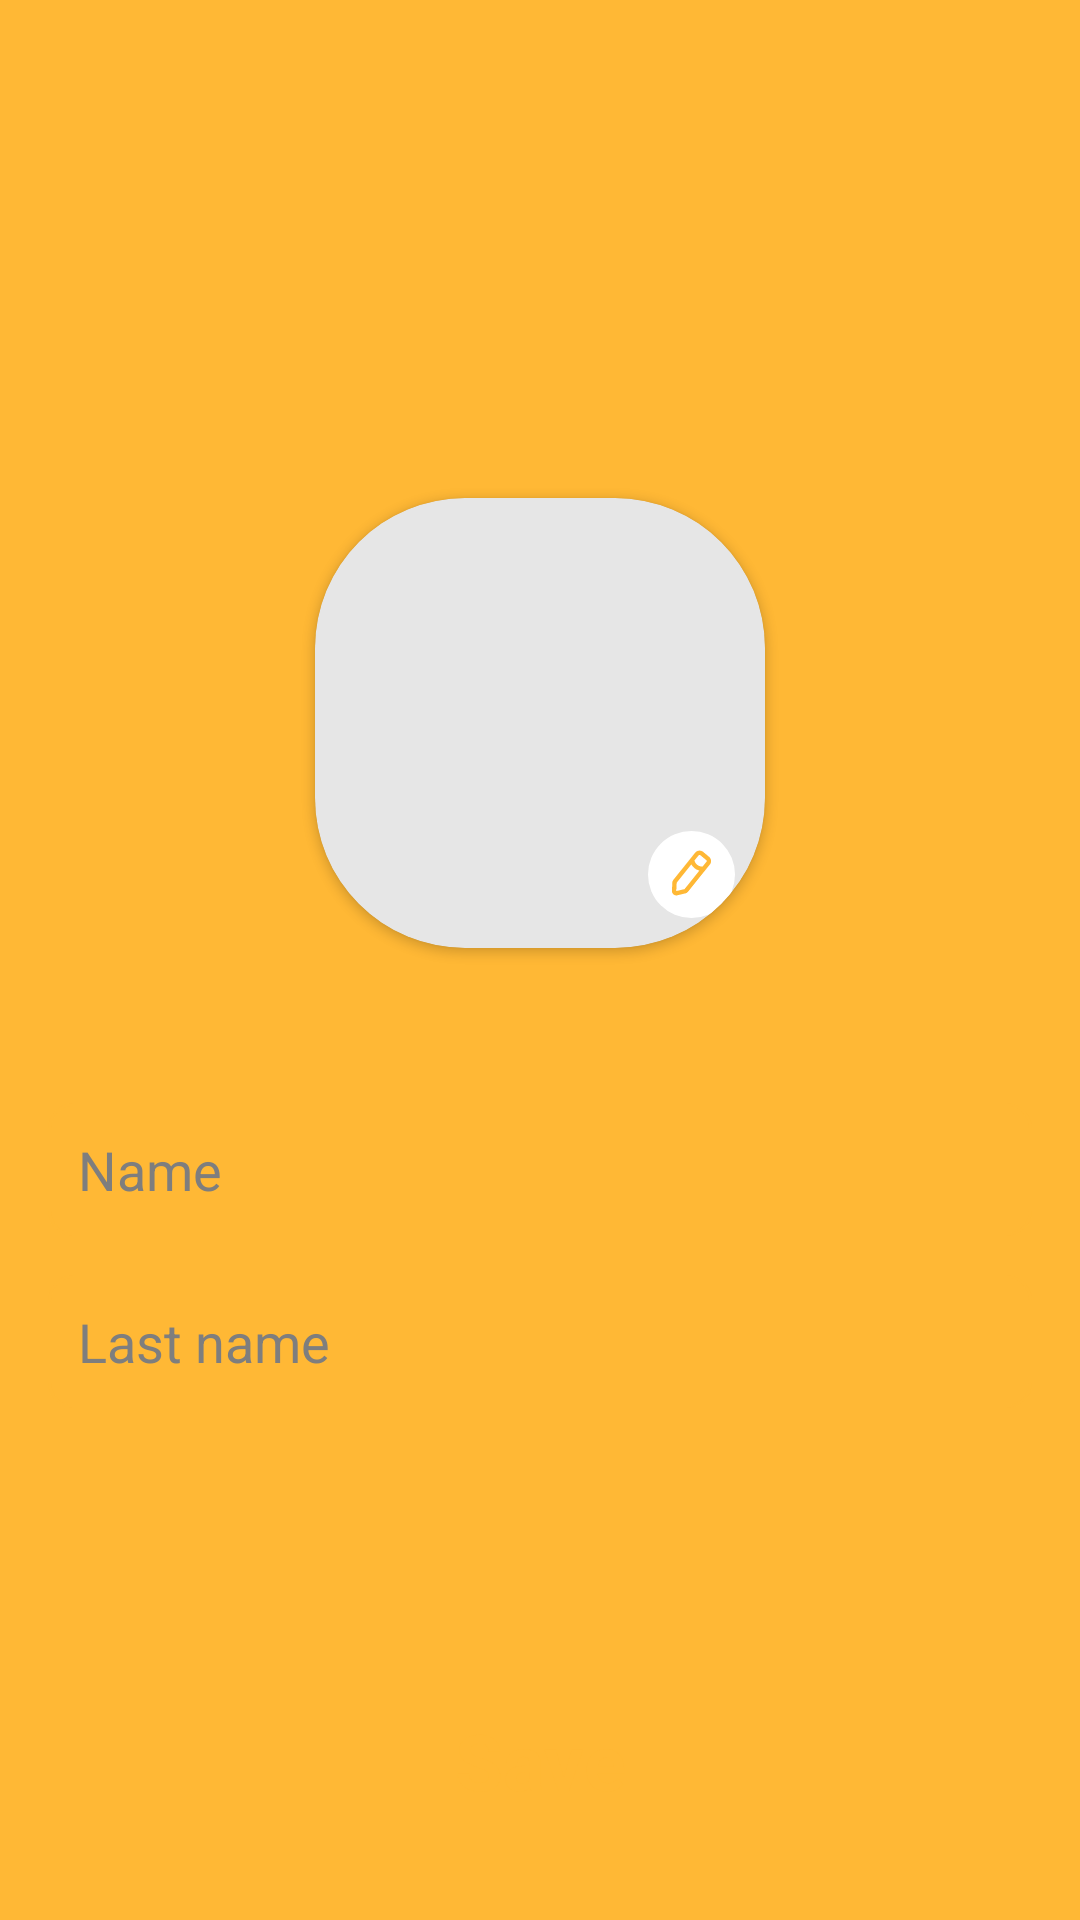

Icons on this 1080px×1920px Android screen, each with its box as (left=x1, top=y1, right=x2, bottom=y2):
pencil: (left=648, top=831, right=735, bottom=918)
